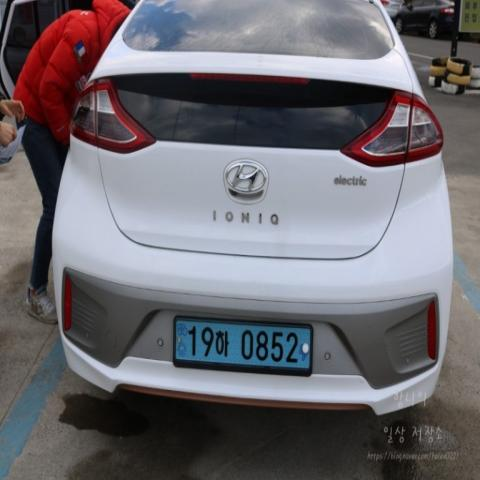LP: (167, 306, 318, 380)
